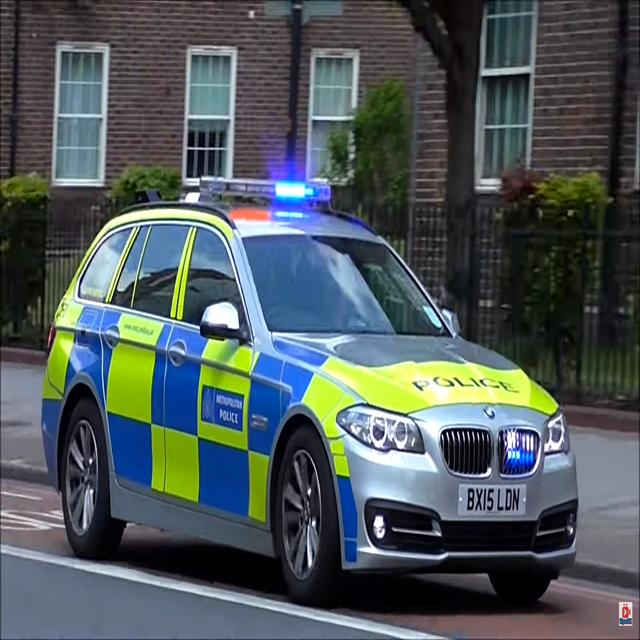emergency-vehicles: (32, 155, 592, 624)
